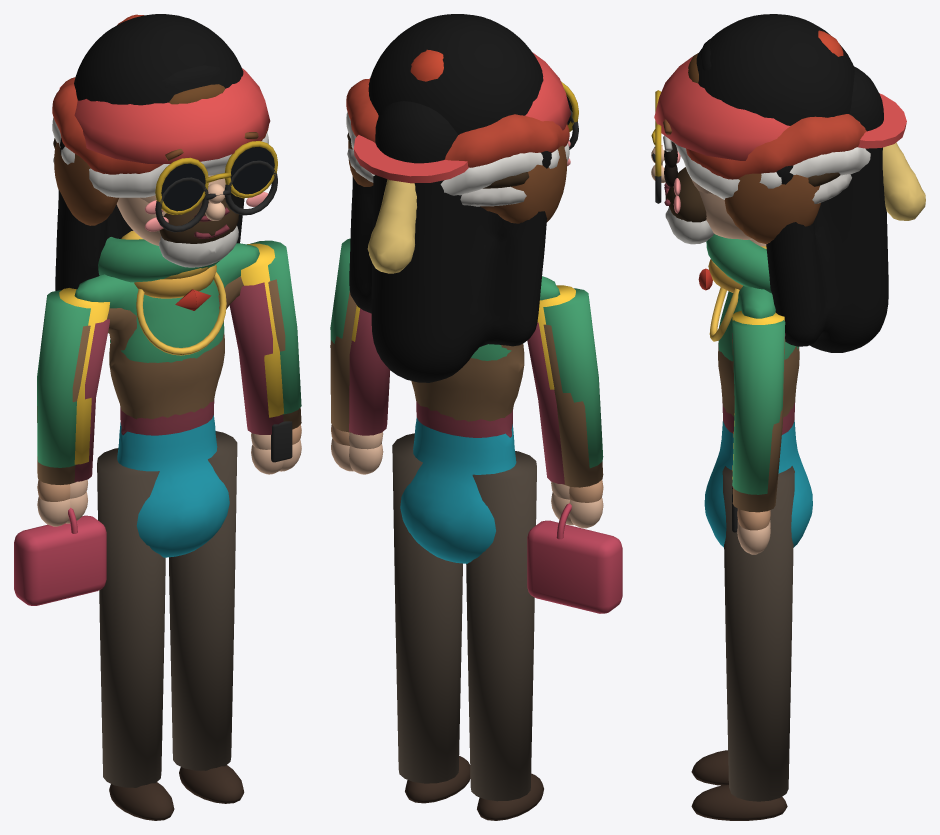
Rendered from people.glb.
3 renders of one model, left to right at view 1: azimuth 30°, elevation 25°; view 2: azimuth 150°, elevation 25°; view 3: azimuth 270°, elevation 25°, orthographic. The views are drawn at different scales.
Parts seen in each view (by area): view 1: PantsL.004, PantsR.004, Cap, Hair.012, Torso.011, Torso.004, Torso.002, Bag, SleeveL.002, SleeveR, Hair.009, SleeveR.002 (+29 smaller); view 2: Hair.009, PantsL.004, PantsR.004, Hair.012, Torso.011, Bag, Hair.011, Torso.004, SleeveL.002, SleeveR, Hair.003, SleeveL.004 (+17 smaller); view 3: Hair.009, PantsR.004, Hair.012, SleeveR.002, Cap, Hair.011, Hair.005, Torso.011, Hair.001, Hood, Hair.003, ShoeR.004 (+12 smaller).
Part boxes in pixels (x1,y1,x2,y2): PantsL.004: (97, 448, 165, 787); PantsR.004: (169, 431, 237, 770); Cap: (74, 68, 270, 163); Hair.012: (74, 14, 243, 105); Torso.011: (117, 415, 229, 557); Torso.004: (107, 276, 243, 419); Torso.002: (74, 243, 259, 362); Bag: (14, 515, 106, 605); SleeveL.002: (37, 290, 90, 467); SleeveR: (229, 282, 283, 434); Hair.009: (55, 138, 244, 290); SleeveR.002: (250, 240, 301, 414); Hair.009: (349, 101, 551, 382); PantsL.004: (466, 451, 536, 801); PantsR.004: (392, 433, 462, 783); Hair.012: (368, 14, 543, 134); Torso.011: (400, 417, 516, 563); Bag: (527, 520, 622, 613); Hair.011: (346, 78, 569, 167); Torso.004: (411, 343, 524, 421); SleeveL.002: (543, 288, 603, 468); SleeveR: (349, 308, 390, 435); Hair.003: (367, 179, 416, 273); SleeveL.004: (543, 324, 603, 487); Hair.009: (766, 66, 888, 352); PantsR.004: (722, 466, 794, 801); Hair.012: (696, 14, 854, 125); SleeveR.002: (732, 320, 785, 494); Cap: (654, 56, 789, 160); Hair.011: (686, 114, 866, 179); Hair.005: (724, 173, 820, 243); Torso.011: (704, 420, 812, 547); Hair.001: (671, 140, 870, 199); Hood: (706, 234, 771, 293); Hair.003: (882, 142, 925, 220); ShoeR.004: (691, 784, 787, 820).
Size of the model in its own units: 0.6769 by 1.77 by 0.5715.
